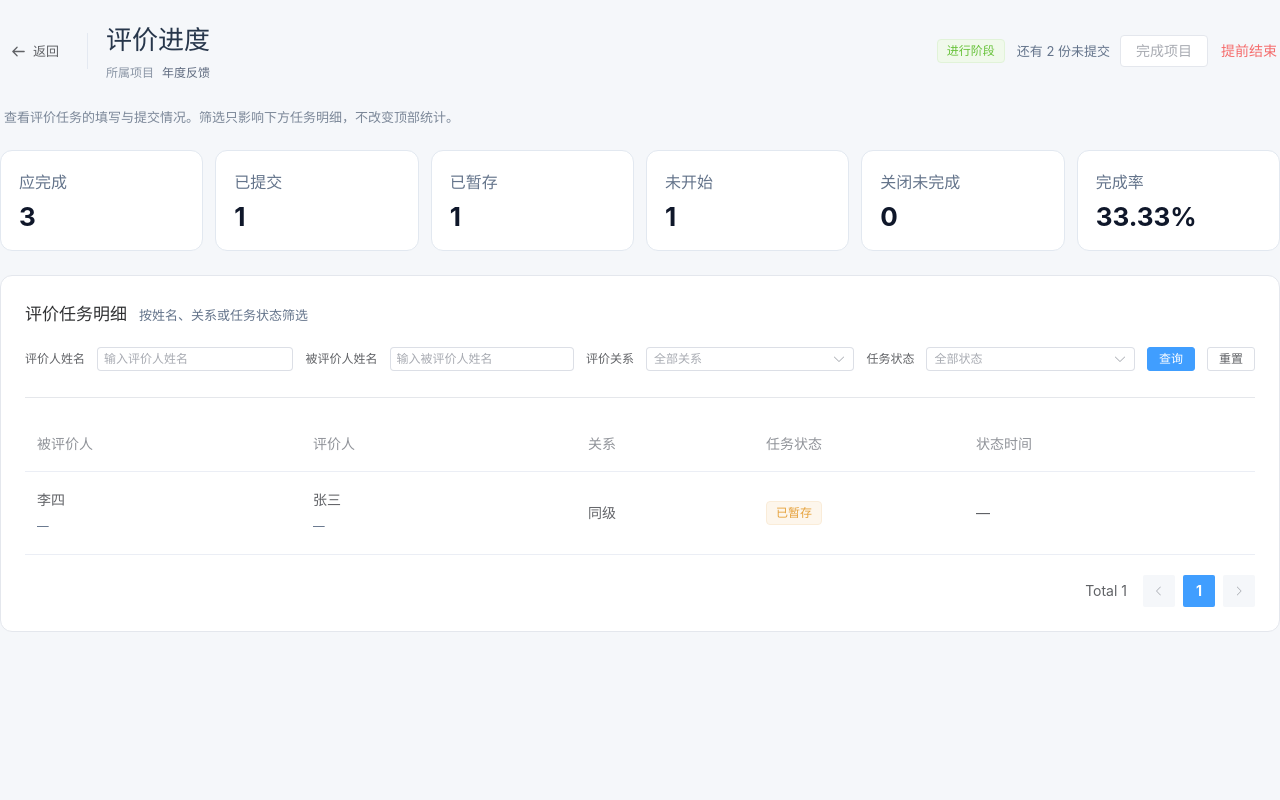
HR项目评价进度页 › 预检发现项目已被并发完成时同步最终状态、刷新进度并打开只读完成抽屉
This screenshot has width=1280, height=800.
Click the button "提前结束" at [1249, 51], box [1218, 41, 1279, 61]
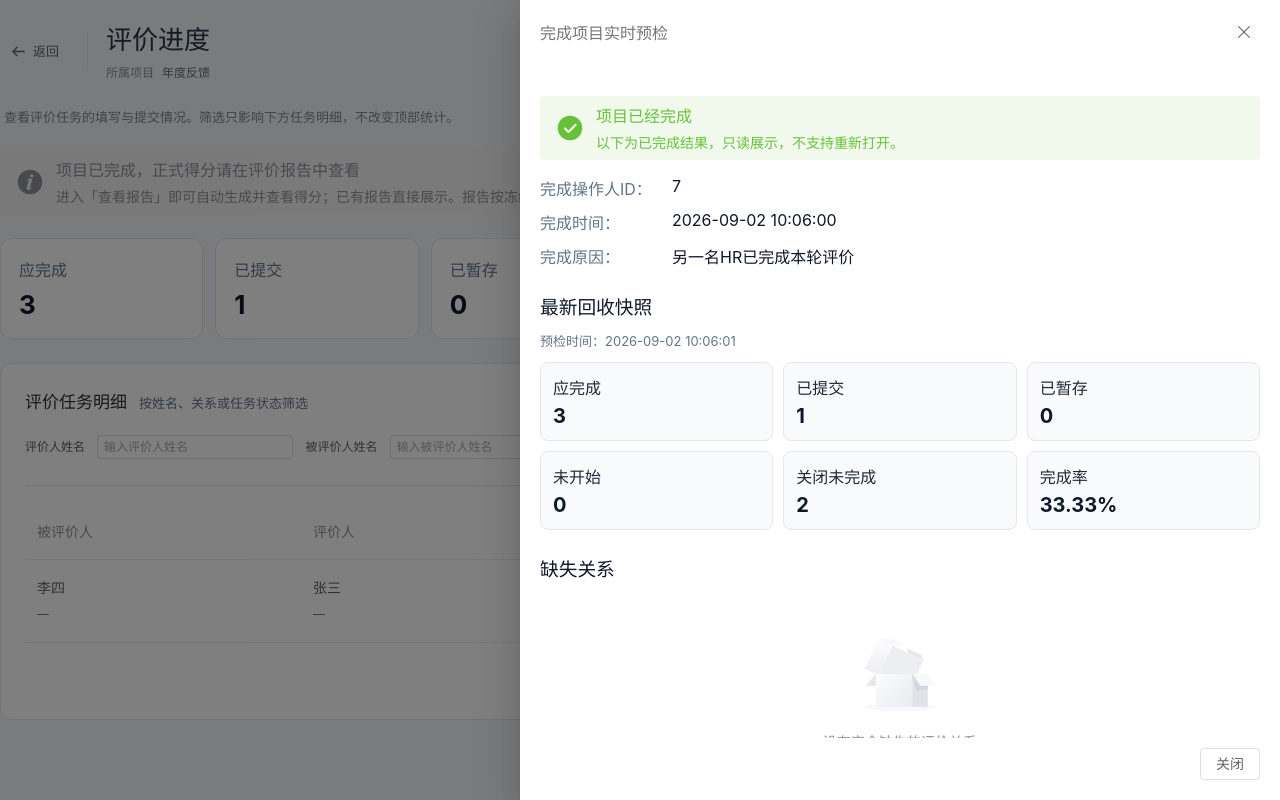
Expected: the dialog with class "completion-drawer" is shown, [520, 0, 1279, 799]
